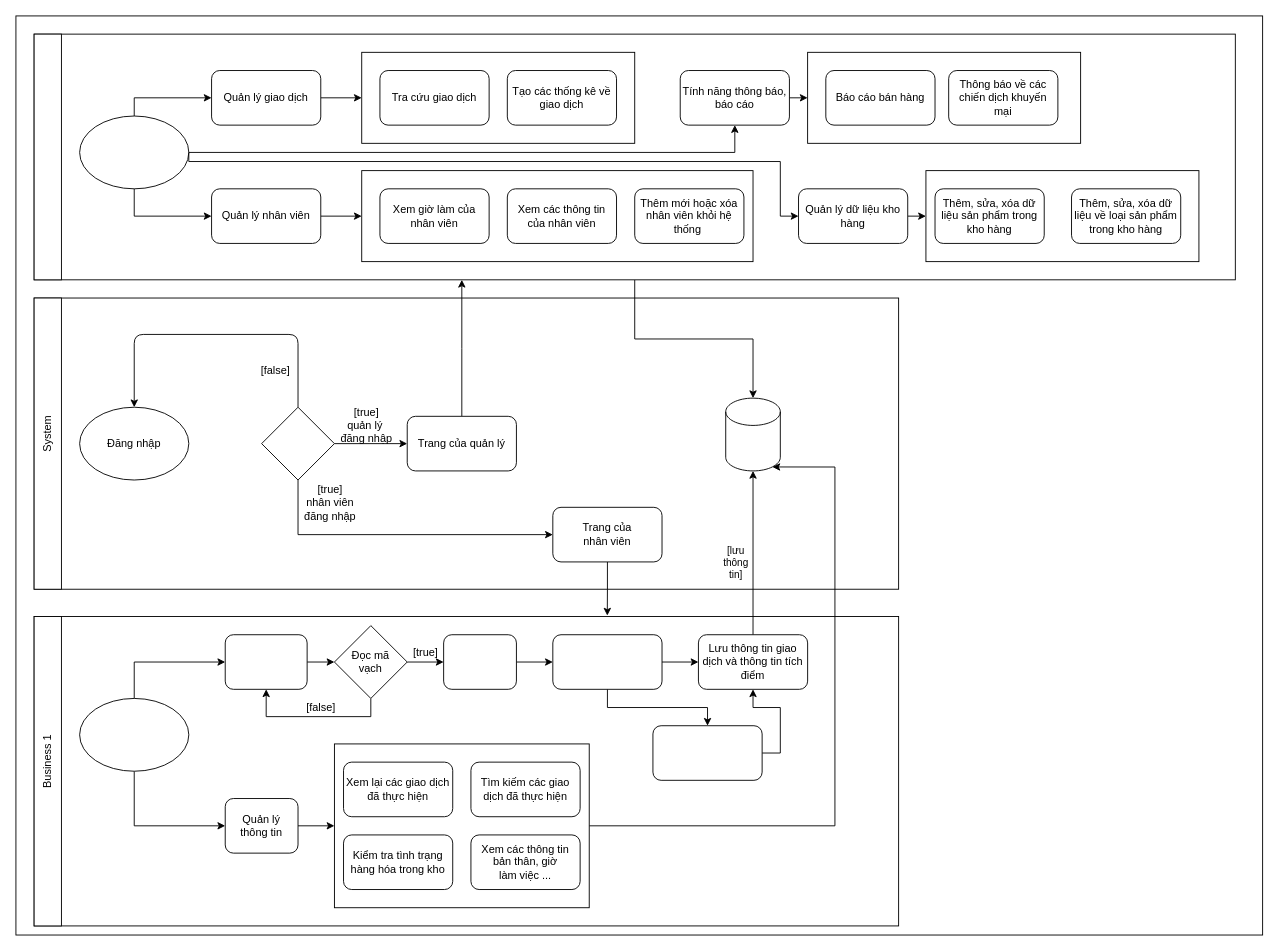
Some shapes in this 1279 by 951 pixel diagram are drawn without their labels. Here are the shapes that lost their labels. From the top down, the centre of each, then its label:
At [47,156]: "Business 2".
At [134,152]: "Quản lý".
At [297,443]: "Xác thực".
At [752,434]: "CSDL".
At [265,661]: "Thanh toán".
At [479,661]: "Thanh toán cho khách hàng".
At [607,661]: "In hóa đơn cho khách hàng".
At [134,734]: "Nhân viên".
At [707,752]: "In phiếu tích điểm cho khách hàng".
